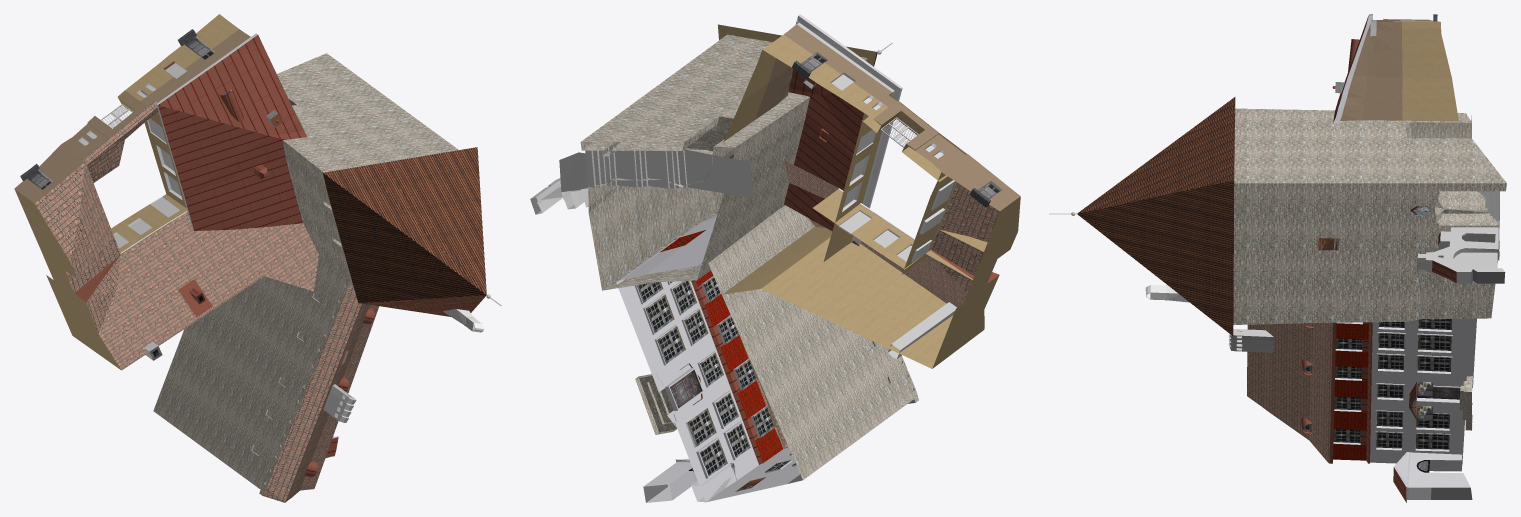
The model's file is Pikk_jalg_9.obj.
The picture shows the model from 3 angles, left to right: view 1: azimuth 30°, elevation 25°; view 2: azimuth 150°, elevation 25°; view 3: azimuth 270°, elevation 25°; orthographic projection. The views are drawn at different scales.
Parts seen in each view (by area): view 1: Pikk_jalg_9; view 2: Pikk_jalg_9; view 3: Pikk_jalg_9.
Part boxes in pixels (<box>): Pikk_jalg_9: <box>14,14,501,502</box>; Pikk_jalg_9: <box>530,14,1020,502</box>; Pikk_jalg_9: <box>1049,14,1506,502</box>.
Size of the model in its own units: 32.15 by 34.54 by 32.43.
